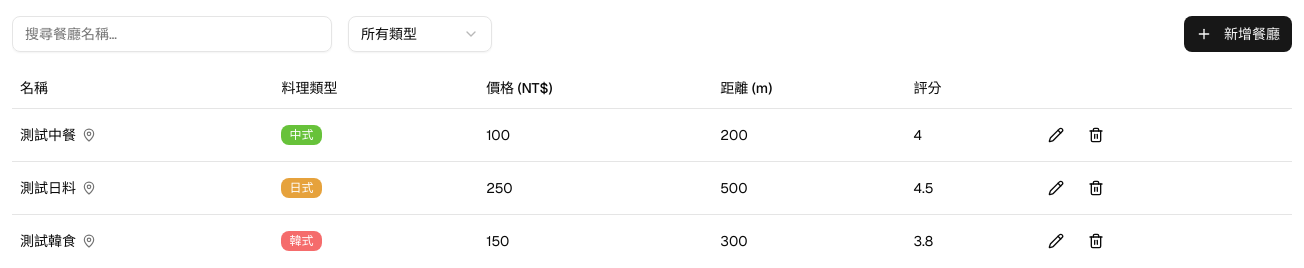
Test: RestaurantListPanel (admin CRUD) › edit mode: clicking pencil shows inline inputs
Click the button named "編輯" in the row of "測試中餐".
click(1056, 134)  # box [1038,116,1074,152]
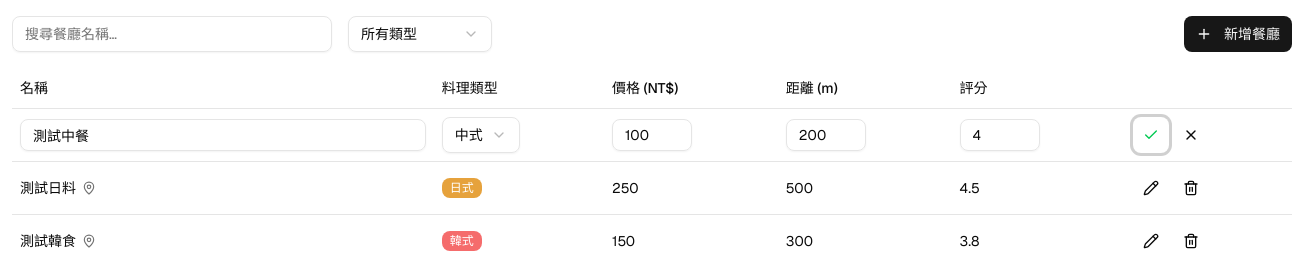
Expected: the field named "編輯名稱" holds "測試中餐", [20,118,426,150]
Expected: the number field named "編輯價格" holds "100", [612,118,692,150]
Expected: the number field named "編輯距離" holds "200", [786,118,866,150]
